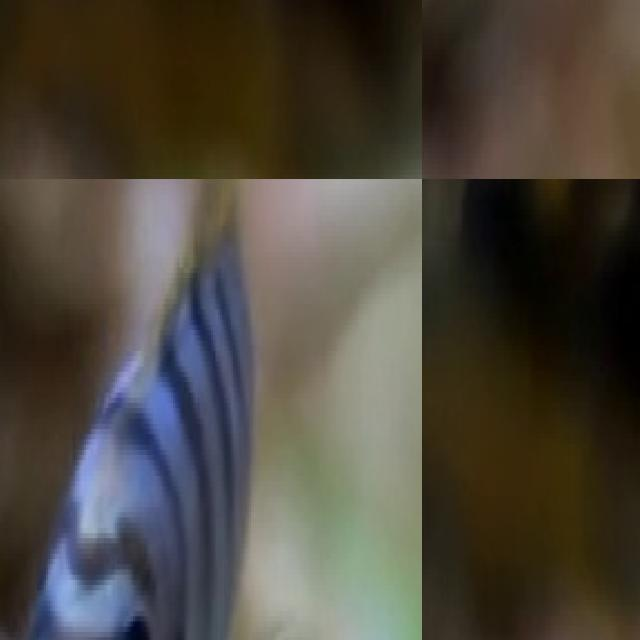fish: (0, 179, 313, 640), (0, 0, 422, 179)
